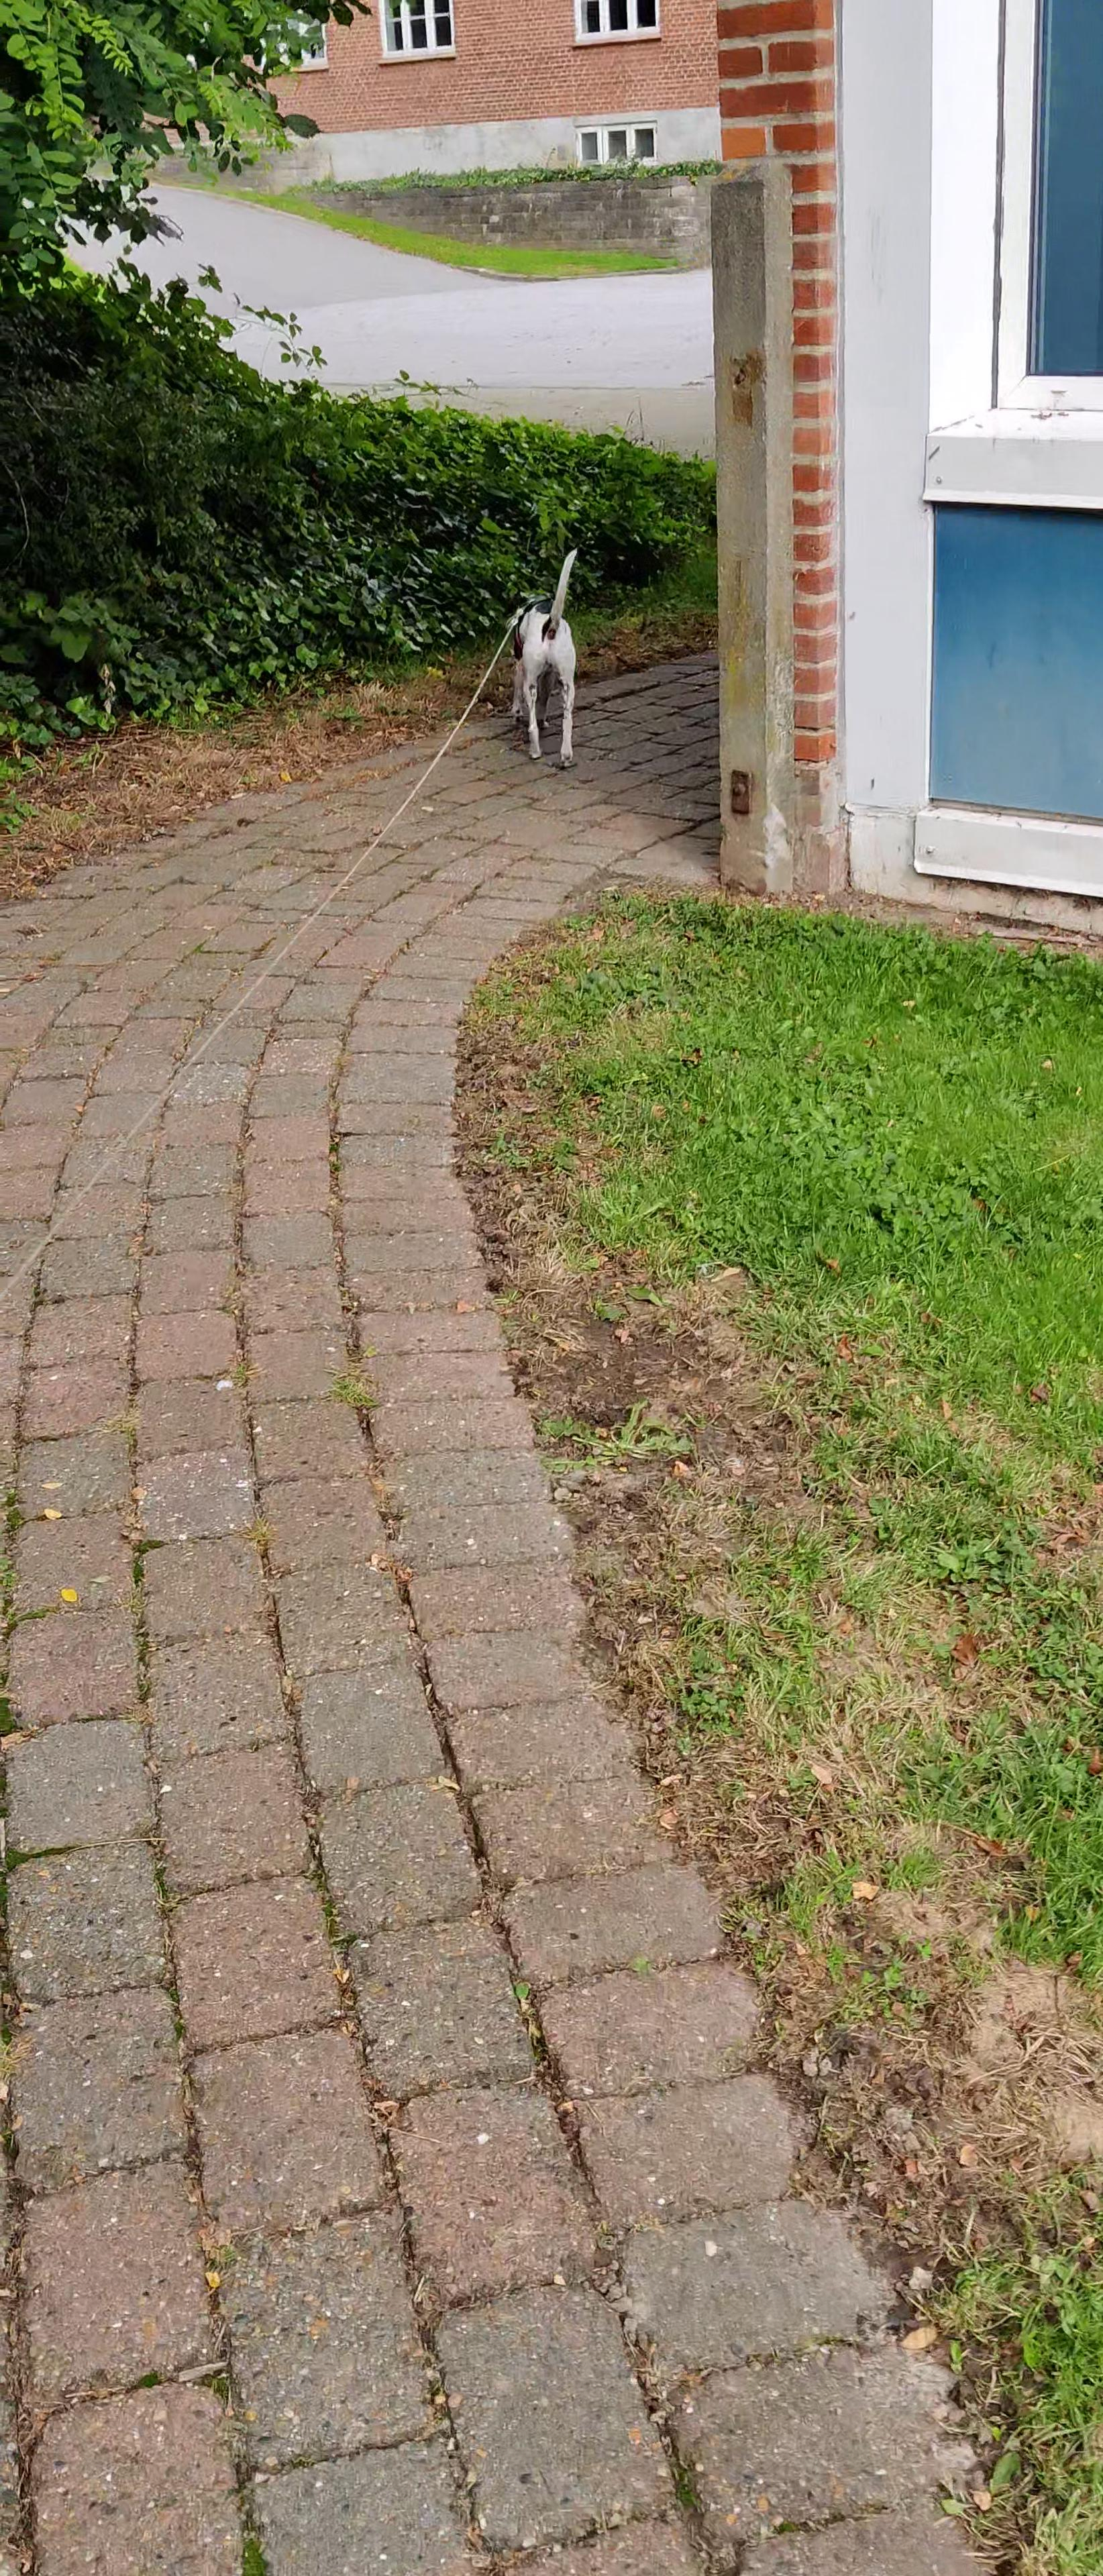Dog: (505, 545, 580, 772)
